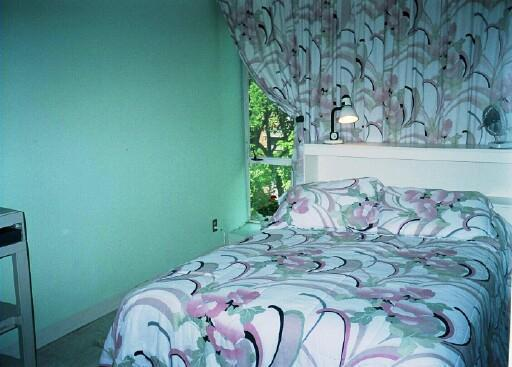Cama: (117, 186, 504, 360)
